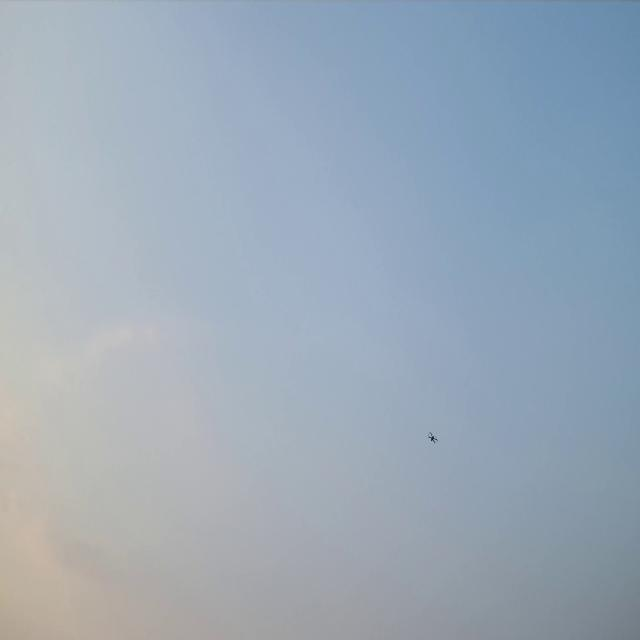UAV: (428, 433, 436, 442)
